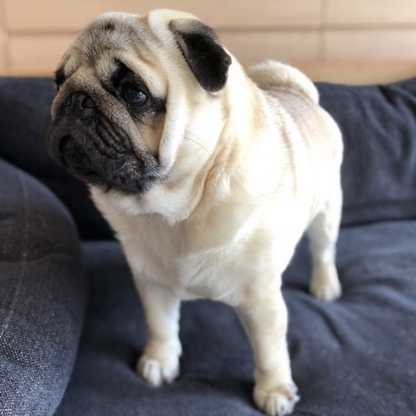Pug: (43, 5, 350, 416)
